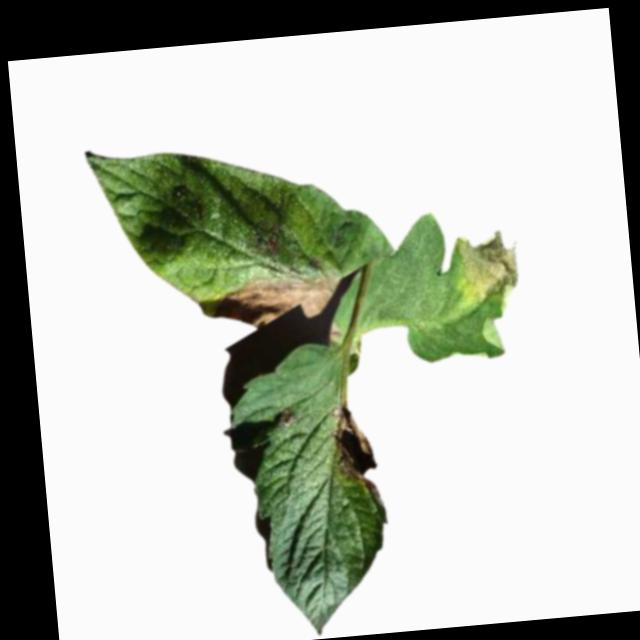Late_blight: (207, 272, 343, 332), (452, 227, 523, 307), (327, 400, 380, 504), (272, 404, 296, 430), (328, 323, 341, 341)
